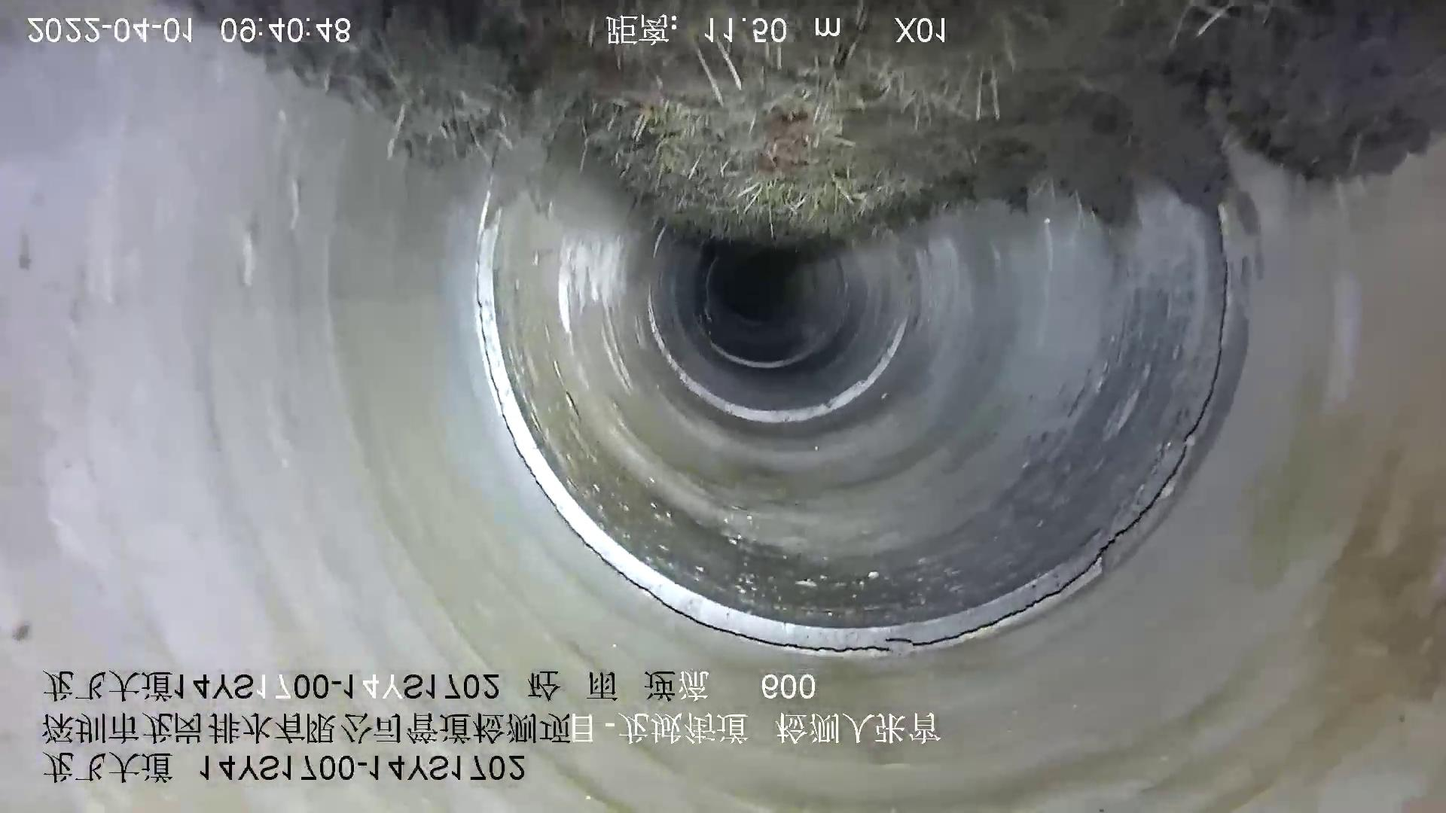CJ: (194, 1, 1445, 252)
CKTJ: (475, 205, 1254, 654), (647, 300, 907, 423), (710, 343, 816, 369)
